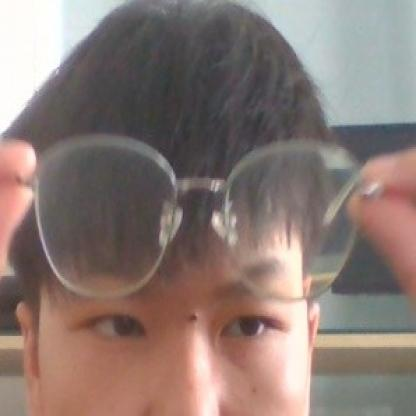not trash: (21, 136, 360, 294)
